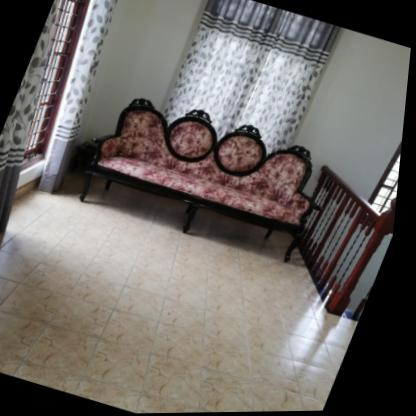Sofa: (66, 81, 351, 271)
